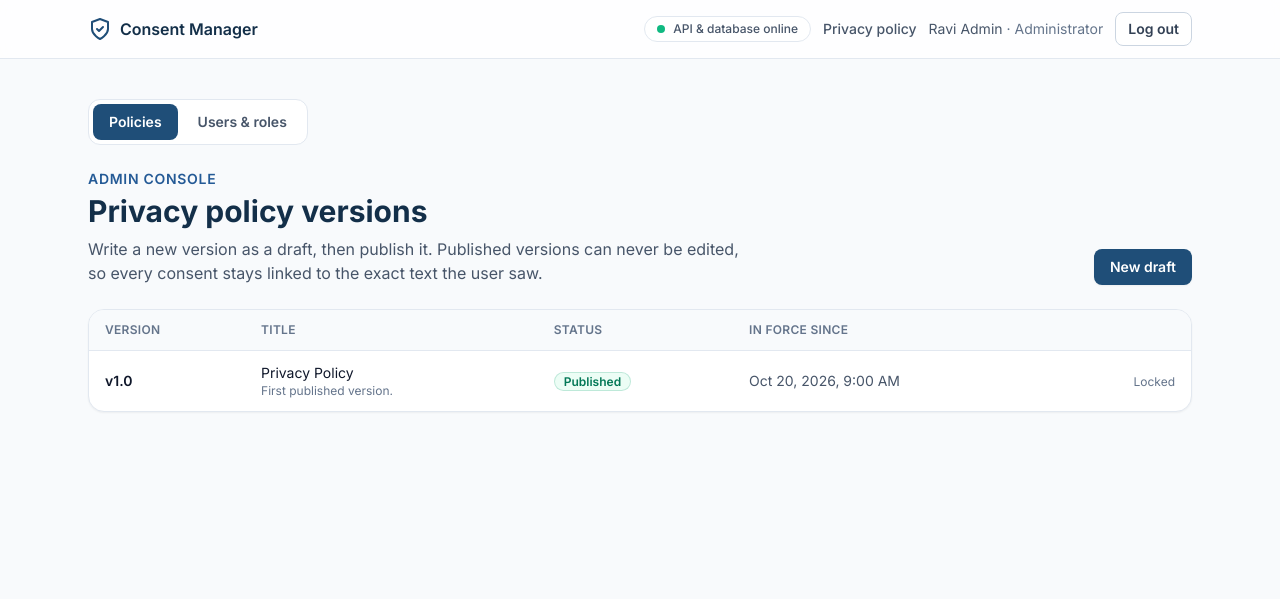
it: admin policy editor (FR-13, FR-14, FR-15) › creates a new draft with the next version number pre-filled
Expected: the text "v1.0" is shown, 89,350 -> 245,411
Click the button "New draft".
click(1143, 267)  # box 1094,249 -> 1192,285
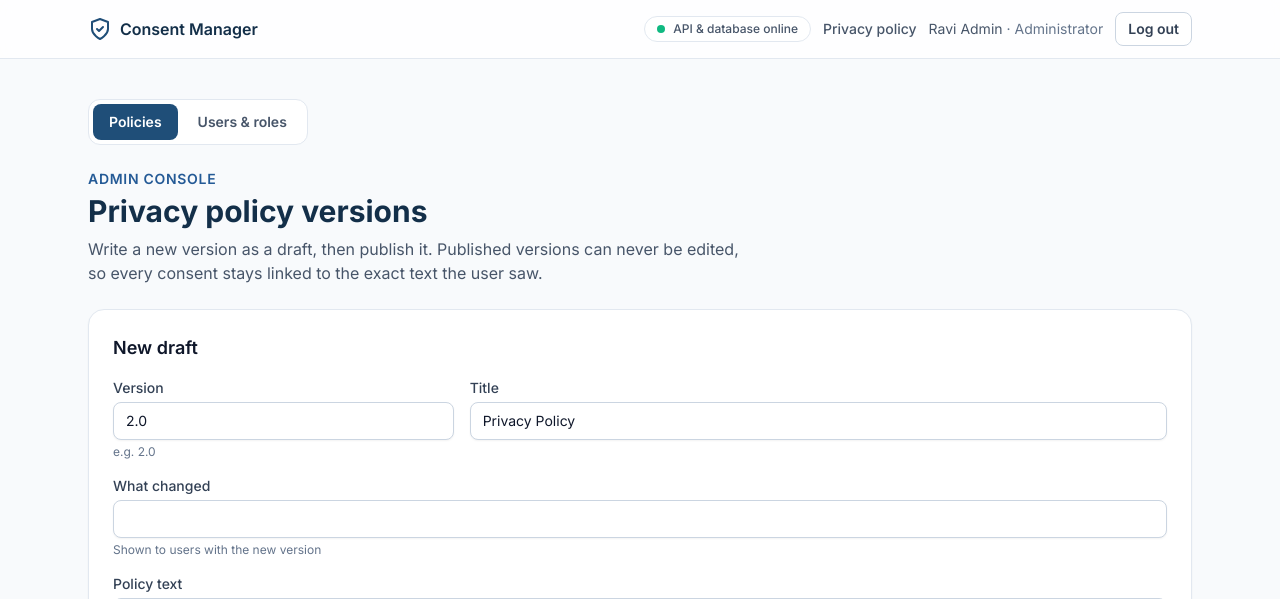
Now the field labelled "Version" holds "2.0", box 113,402 -> 454,440
Type "Adds analytics" into the field labelled "What changed".
click(640, 519); type("Adds analytics")  # box 113,500 -> 1167,538
(page scrolled)
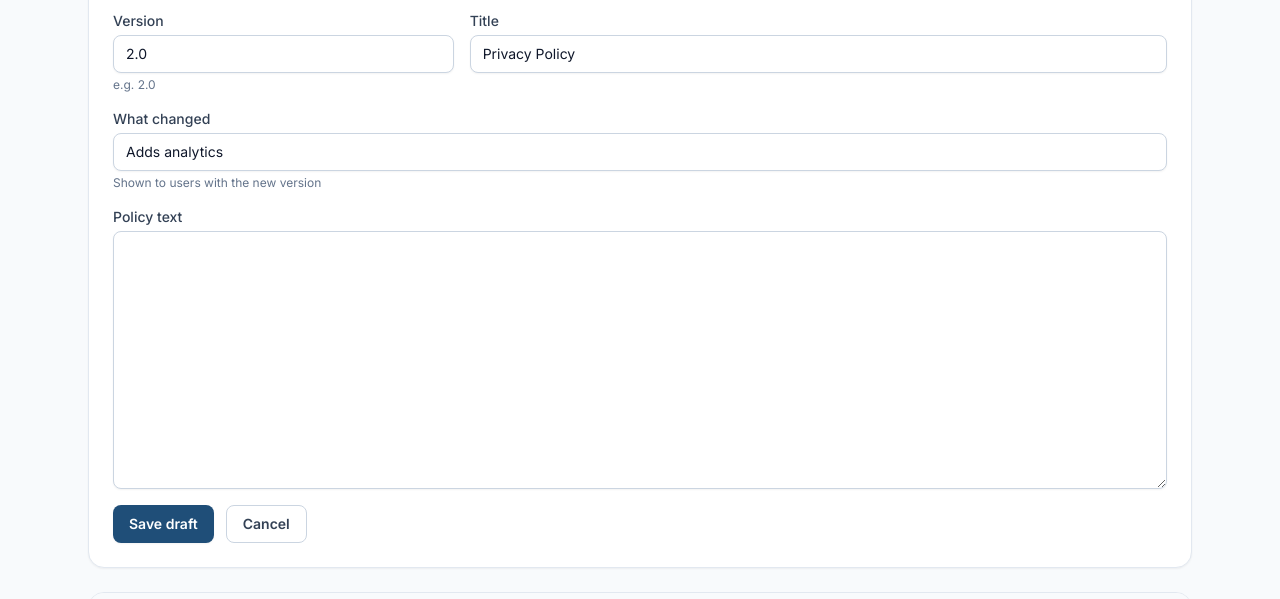
Type "New text" into the text box labelled "Policy text".
click(640, 360); type("New text")  # box 113,231 -> 1167,489
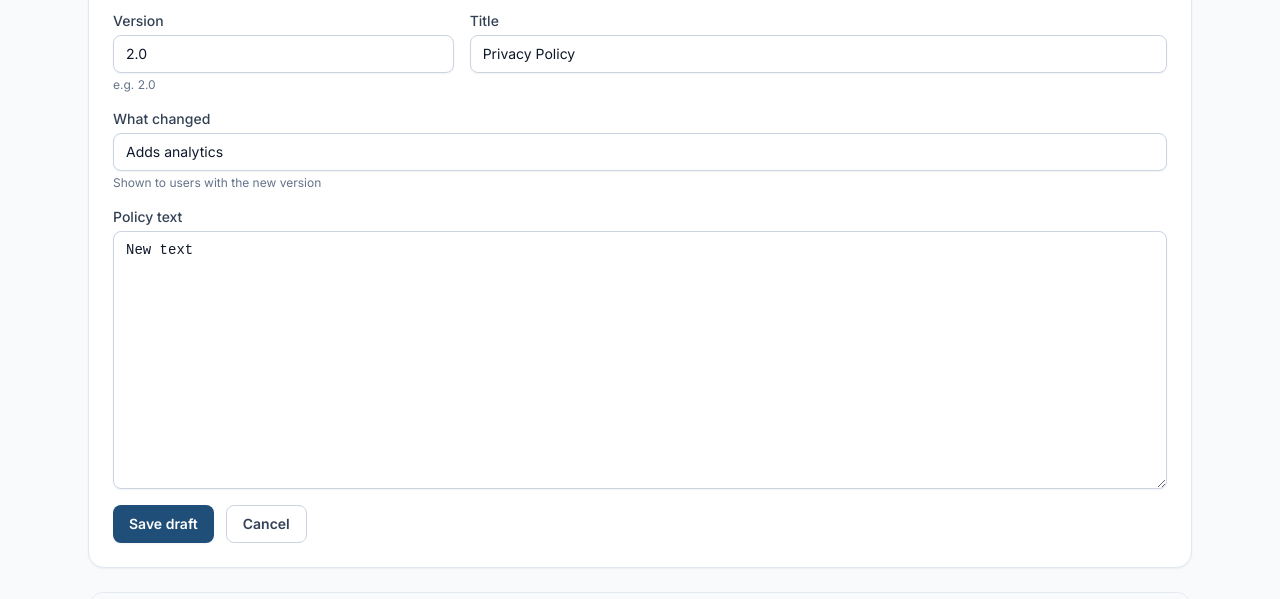
Click the button "Save draft".
click(163, 524)  # box 113,505 -> 214,543
(page scrolled)
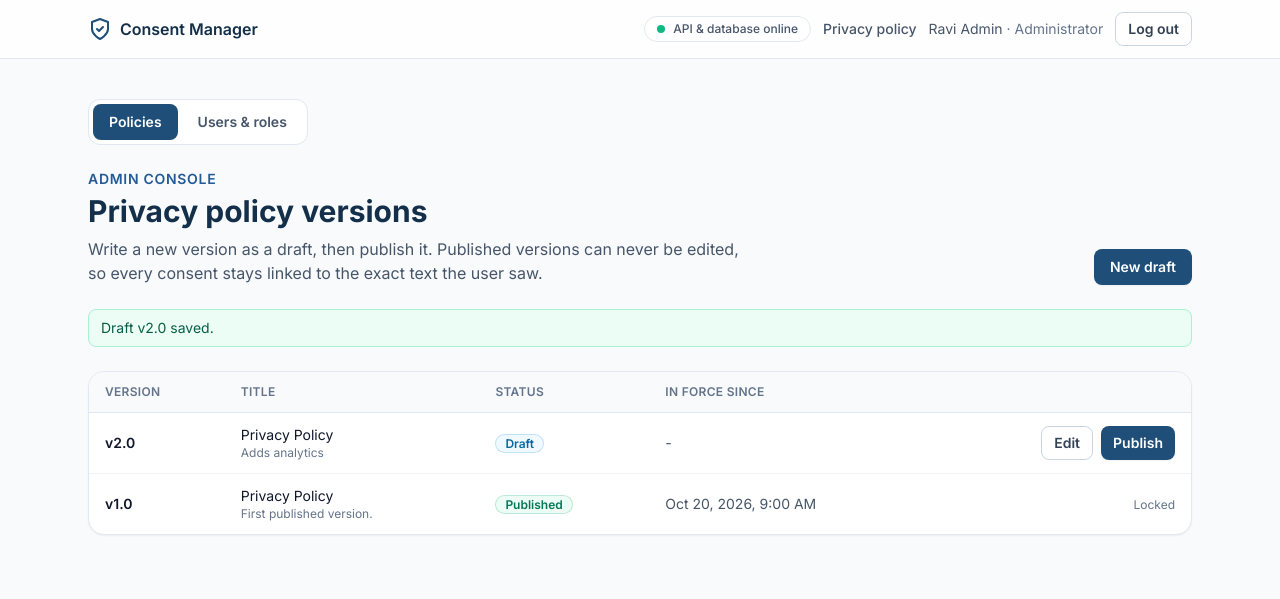
Now the text "Draft v2.0 saved." is shown, box 88,309 -> 1192,347
